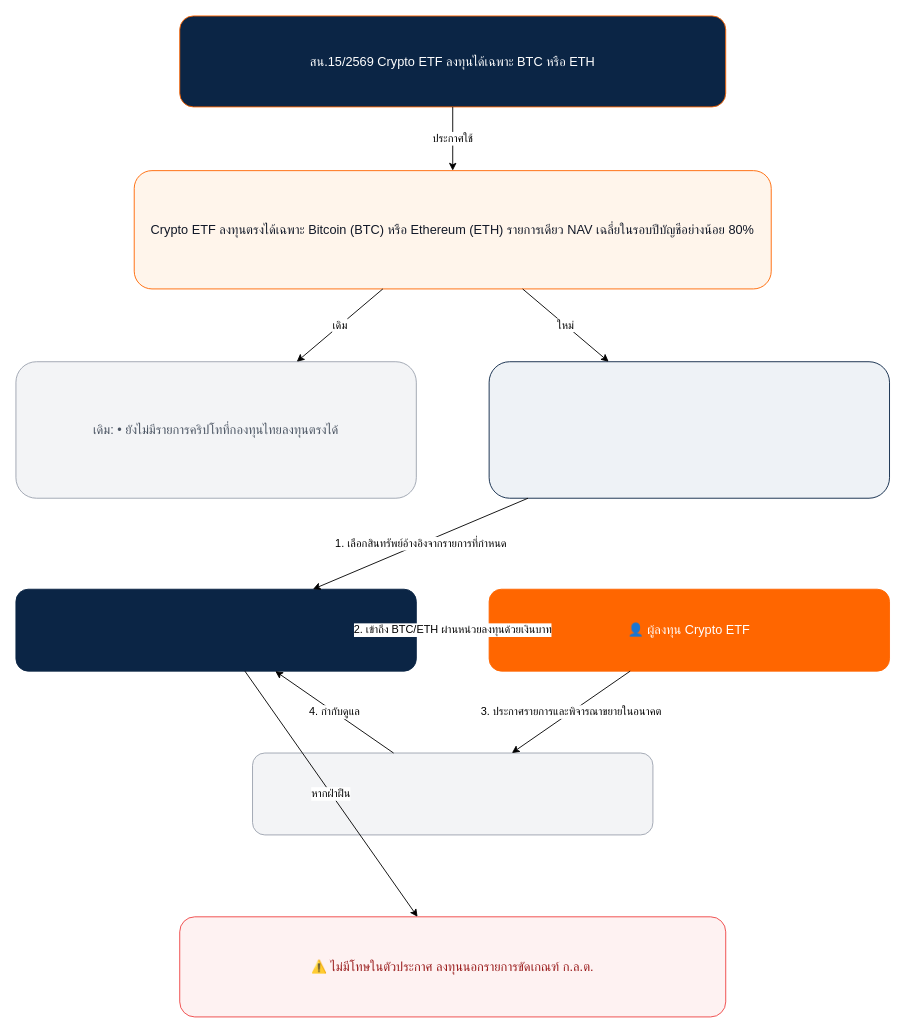
The diagram is 905 pixels wide and 1033 high, and some of its shapes have lost their labels. The centre of each missing label's shape, as x and y in pixels:
"ใหม่: • BTC หรือ ETH เท่านั้น • เลือกได้รายการเดียวต่อกองทุน" goes at (x=689, y=429).
"🏛️ ก.ล.ต." goes at (x=452, y=793).
"🏢 บลจ." goes at (x=215, y=629).
